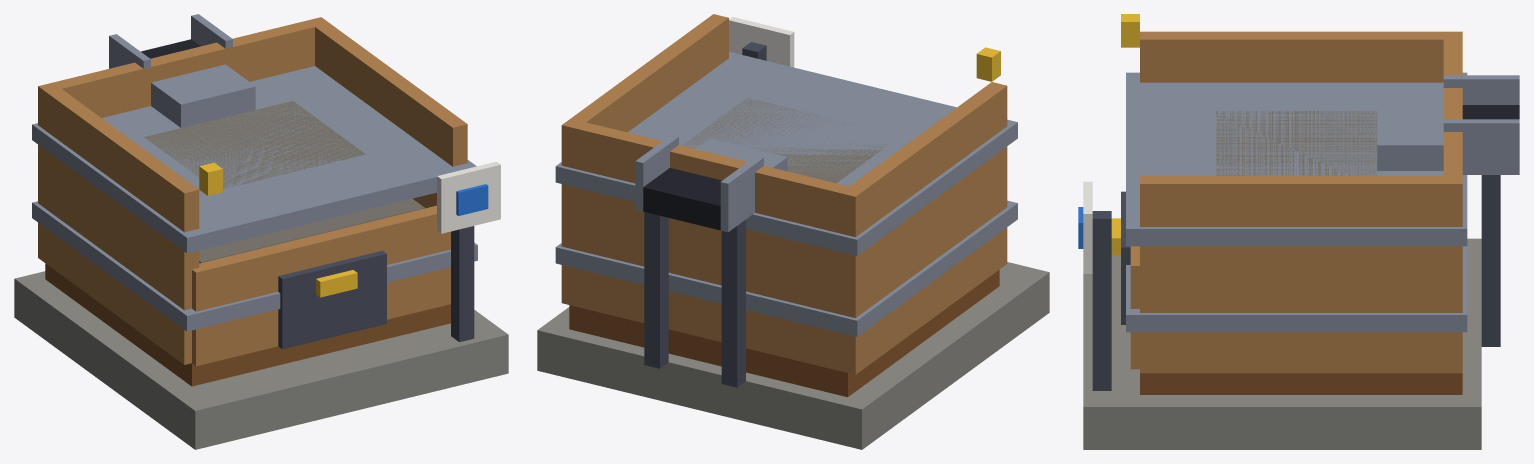
The model's file is bin.glb.
3 renders of one model, left to right at view 1: azimuth 30°, elevation 25°; view 2: azimuth 150°, elevation 25°; view 3: azimuth 270°, elevation 25°, orthographic. The views are drawn at different scales.
Parts seen in each view (by area): view 1: bin; view 2: bin; view 3: bin.
Part boxes in pixels (x1=…): bin: x1=14, y1=14, x2=508, y2=449; bin: x1=537, y1=14, x2=1049, y2=449; bin: x1=1078, y1=14, x2=1519, y2=449.
Bounding box in the file's own units: 0.84 × 0.66 × 0.93.
Materials: 1 (1 with a texture image).
